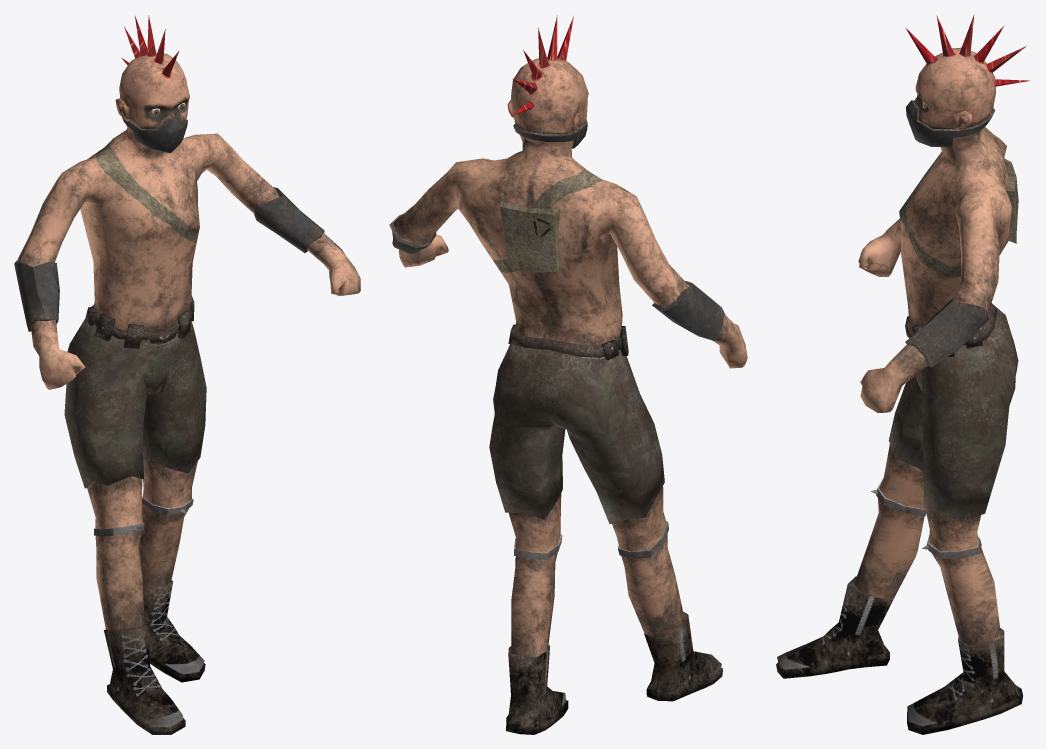
The model's file is Anim_ganar_1_npc2.0041.obj.
3 renders of one model, left to right at view 1: azimuth 30°, elevation 25°; view 2: azimuth 150°, elevation 25°; view 3: azimuth 270°, elevation 25°, orthographic. The views are drawn at different scales.
Visible parts, largest first — view 1: polySurface1; view 2: polySurface1; view 3: polySurface1.
Boxes of the visible parts, left/top/right/bottom form: polySurface1: left=14, top=15, right=360, bottom=734; polySurface1: left=389, top=15, right=747, bottom=734; polySurface1: left=776, top=14, right=1030, bottom=734.
Size of the model in its own units: 5.29 by 10.29 by 3.38.
2 materials, 2 textured.
